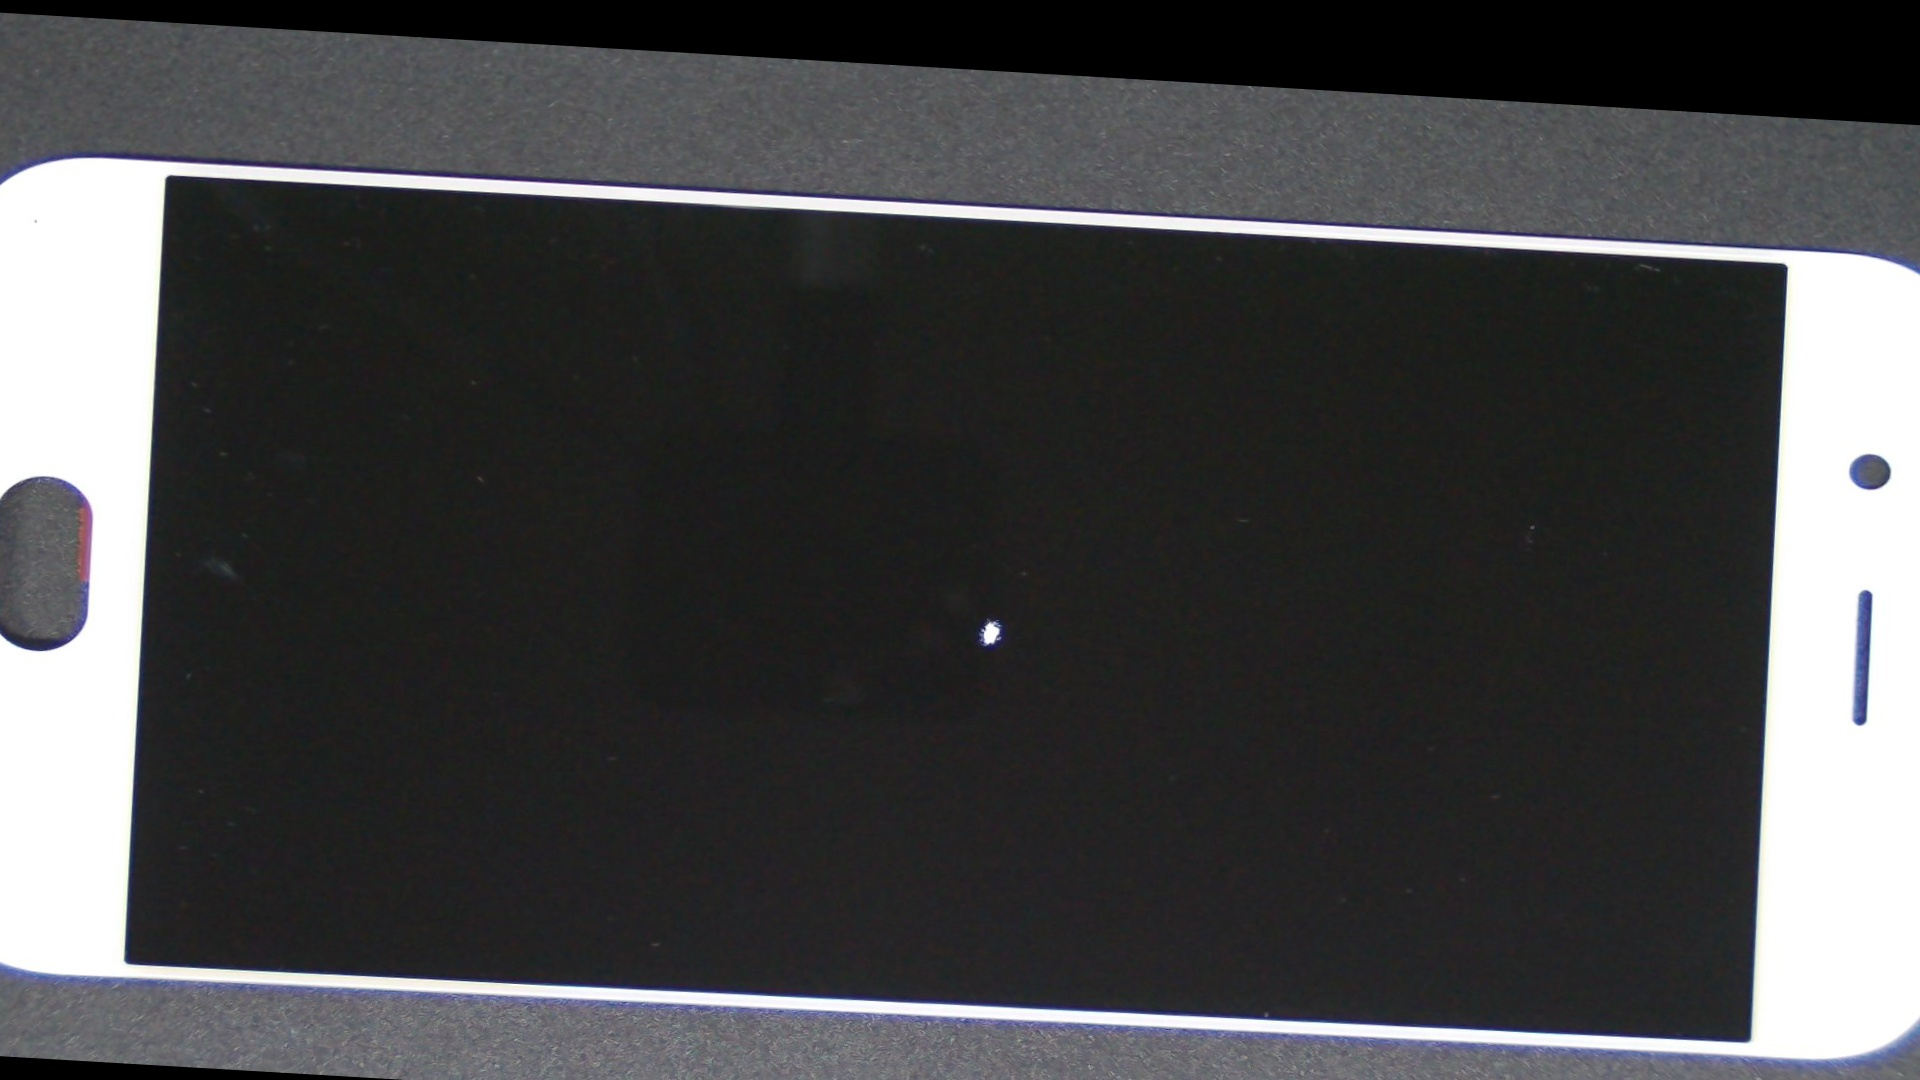oil: (402, 311, 1577, 923)
